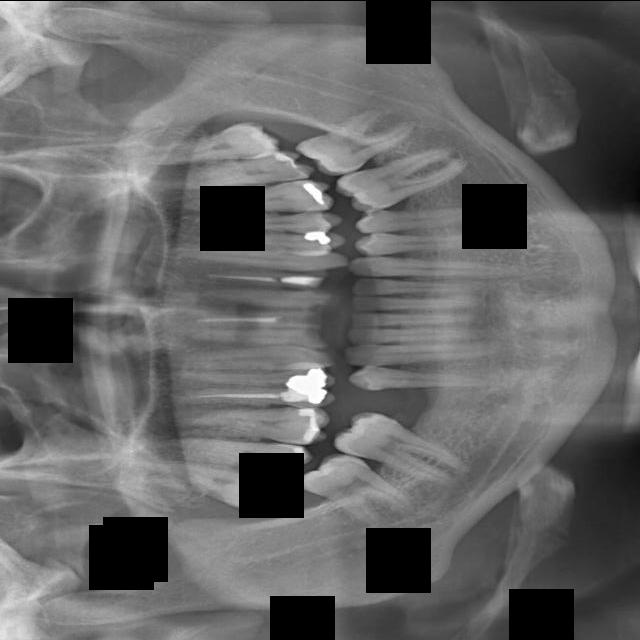3M ESPE Implant: (105, 441, 287, 518)
AGS Medikal Implant: (291, 87, 429, 191)
AMerOss Implant: (330, 138, 474, 221)
Amalgam filling: (132, 424, 318, 483)
Anthogyr Implant: (353, 204, 499, 234)
Bicon Implant: (352, 228, 507, 256)
BioHorizons Implant: (346, 255, 532, 278)
BioLife Implant: (349, 277, 486, 296)
Biomet 3i Implant: (352, 295, 481, 310)
Blue Sky Bio Implant: (348, 311, 477, 326)
Camlog Implant: (346, 327, 484, 343)
Caries: (192, 267, 333, 289)
Composite filling: (343, 341, 505, 367)
Cowellmedi Implant: (344, 363, 505, 391)
DENTSPLY Implant: (173, 404, 334, 446)
Dentis Implant: (328, 399, 479, 495)
Dentium Implant: (290, 434, 429, 543)
Euroteknika Implant: (162, 386, 339, 407)
Filling: (160, 368, 339, 386)
Frontier Implant: (160, 346, 337, 369)
Hiossen Implant: (157, 243, 351, 272)
Implant: (181, 308, 323, 329)
Implant Direct: (172, 326, 330, 345)
Keystone Dental Implant: (185, 287, 334, 308)
MIS Implant: (189, 228, 350, 249)
Mandible: (177, 209, 347, 234)
Maxilla: (170, 176, 338, 220)
Megagen Implant: (154, 144, 316, 199)
Neodent Implant: (122, 112, 284, 183)
